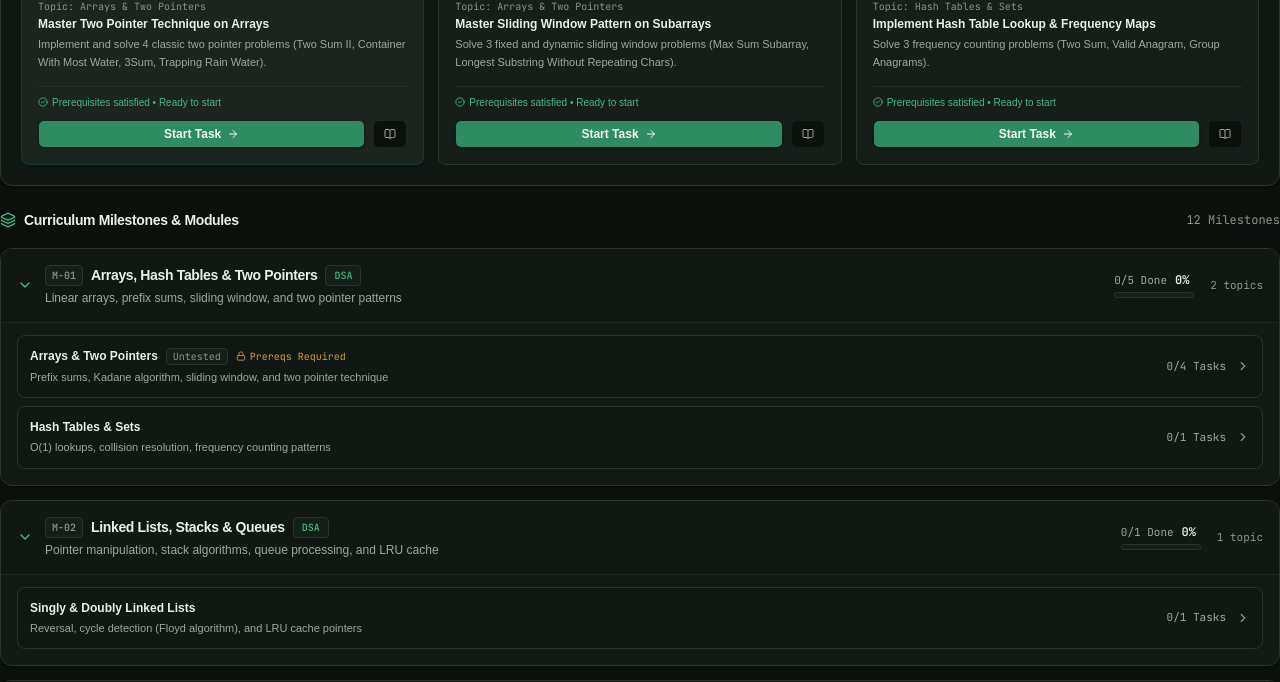
Test case: F-UI-PRE-NAV: lock explanation names the real blocker › explains prerequisite and phase together, offering only valid actions
(page scrolled)
What coordinates should you click on to do the following:
click the text "Arrays & Two Pointers"
I would click on:
 (94, 356)
Its box is [30, 348, 158, 364].
(page scrolled)
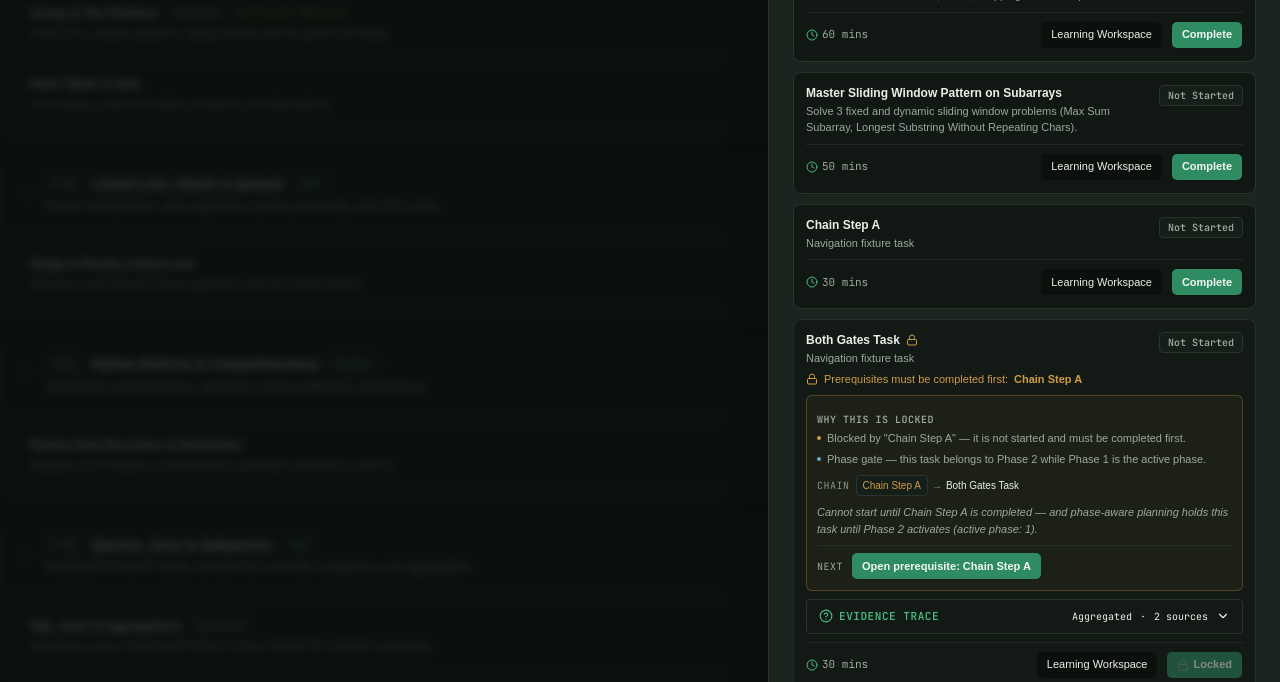
Expected: the text with test id "lock-why-both-task" shows "Chain Step A", [817, 506, 1228, 534]
Expected: the text with test id "lock-why-both-task" shows "Phase 2 activates", [817, 506, 1228, 534]
Expected: the button with test id "open-prereq-both-task-chain-a" is shown, [851, 552, 1042, 580]
